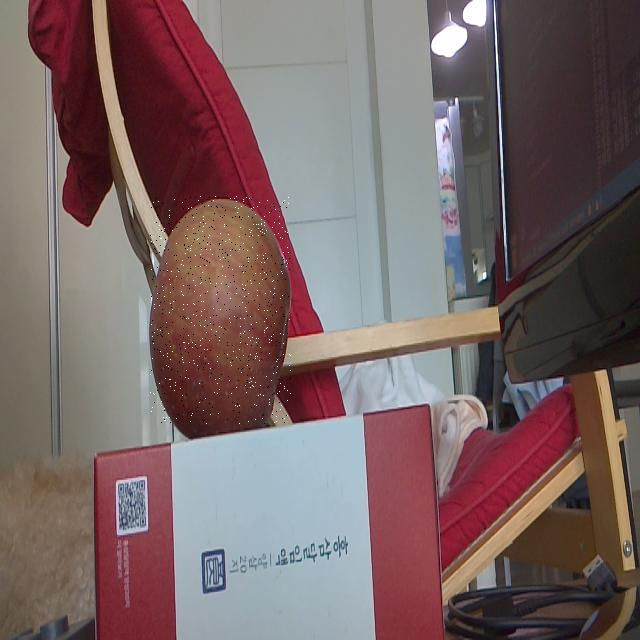apple: (150, 196, 291, 424)
